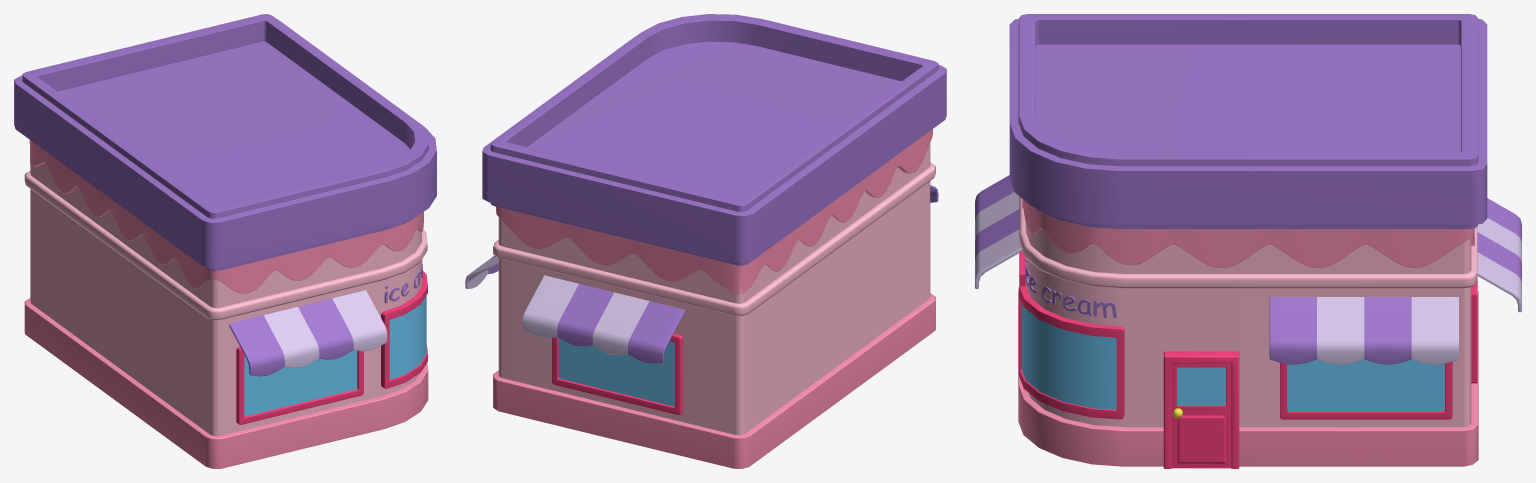
File: Store_4_Ice_Cream_Shop_1.glb
The picture shows the model from 3 angles, left to right: view 1: azimuth 30°, elevation 25°; view 2: azimuth 150°, elevation 25°; view 3: azimuth 270°, elevation 25°; orthographic projection. The views are drawn at different scales.
Parts seen in each view (by area): view 1: Store_4_Ice_Cream_Shop_1; view 2: Store_4_Ice_Cream_Shop_1; view 3: Store_4_Ice_Cream_Shop_1.
Part boxes in pixels (box(x1,y1,x2,y2)): Store_4_Ice_Cream_Shop_1: box(14, 14, 436, 468); Store_4_Ice_Cream_Shop_1: box(465, 14, 946, 468); Store_4_Ice_Cream_Shop_1: box(975, 14, 1521, 468).
Bounding box in the file's own units: 7.92 × 6.81 × 10.97.
Materials: 1 (1 with a texture image).
